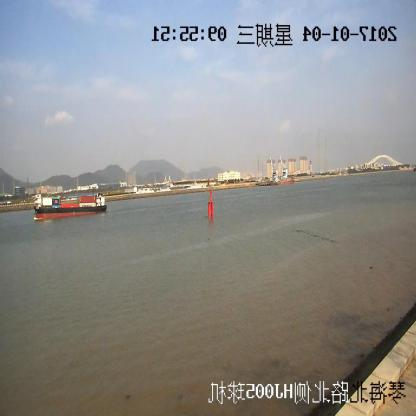Container Ship: (35, 193, 107, 220)
